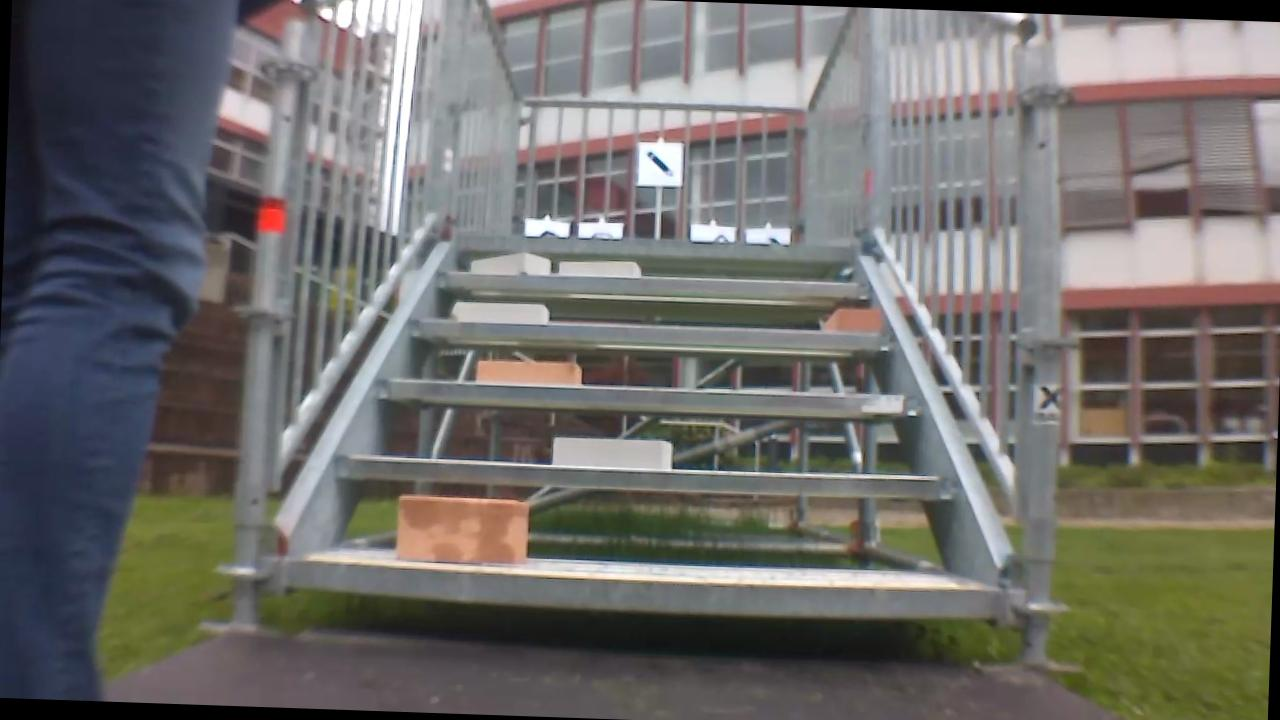brick: (391, 498, 530, 564), (549, 432, 677, 474), (476, 357, 584, 384), (451, 299, 547, 327), (470, 251, 549, 275), (558, 258, 642, 276), (829, 306, 882, 331)
edge: (288, 556, 1002, 615), (335, 451, 957, 502), (372, 376, 925, 420), (406, 314, 895, 354), (428, 265, 875, 302), (451, 232, 854, 263)
pencil: (642, 145, 674, 181)
steps: (276, 223, 1022, 624)
